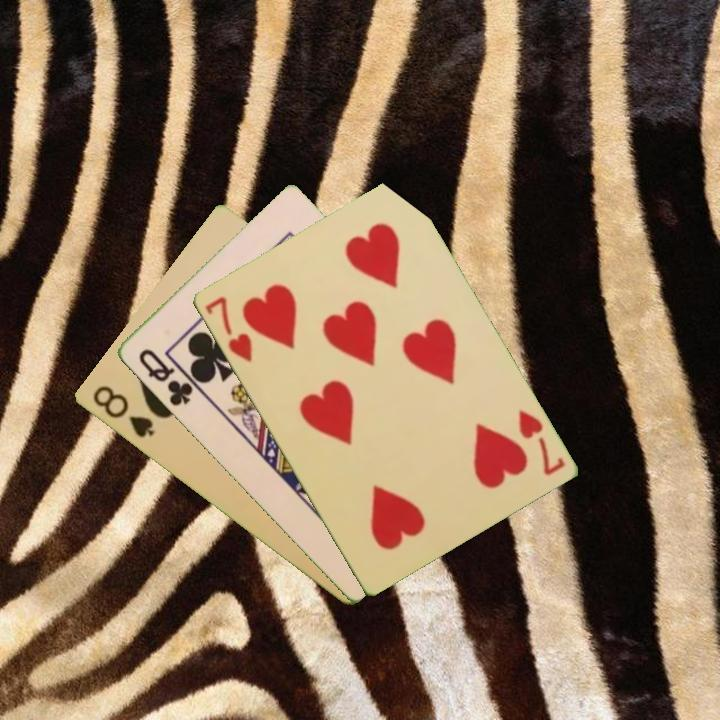7h: (200, 293, 255, 365), (514, 406, 567, 479)
8s: (88, 382, 157, 441)
Qc: (134, 345, 196, 409)
